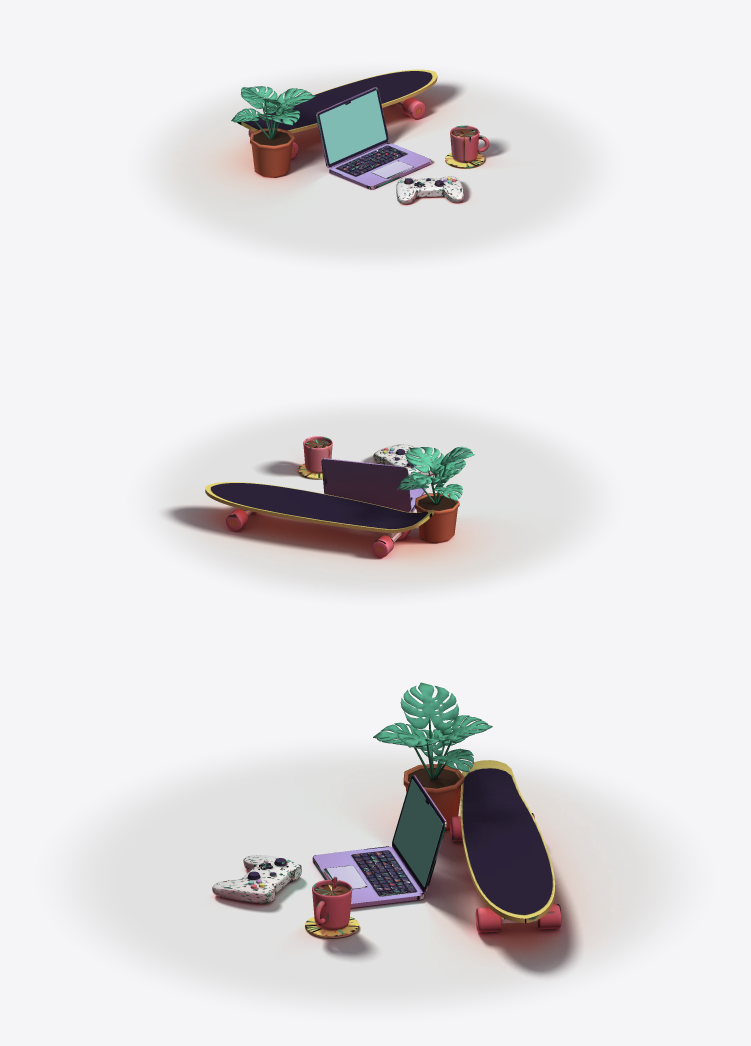
3 views of the same model, one above another, from view 1: azimuth 30°, elevation 25°; view 2: azimuth 150°, elevation 25°; view 3: azimuth 270°, elevation 25° (orthographic). The views are drawn at different scales.
Parts seen in each view (by area): view 1: floor, longboard, plant, laptop, lid_display, gamepad, coffee_cup; view 2: floor, longboard, plant, laptop, coffee_cup, gamepad; view 3: floor, longboard, plant, laptop, lid_display, gamepad, coffee_cup.
Part boxes in pixels (<box>): floor: <box>136,66,614,267</box>; longboard: <box>233,69,437,158</box>; plant: <box>231,86,315,177</box>; laptop: <box>316,87,431,189</box>; lid_display: <box>319,90,386,163</box>; gamepad: <box>396,176,463,204</box>; coffee_cup: <box>445,125,489,168</box>; floor: <box>136,400,614,601</box>; longboard: <box>205,482,433,557</box>; plant: <box>397,446,474,542</box>; laptop: <box>321,458,425,512</box>; coffee_cup: <box>298,436,332,478</box>; gamepad: <box>373,444,441,479</box>; floor: <box>49,741,701,1016</box>; longboard: <box>449,760,561,932</box>; plant: <box>373,682,492,829</box>; laptop: <box>312,774,446,907</box>; lid_display: <box>393,779,442,886</box>; gamepad: <box>212,855,301,903</box>; coffee_cup: <box>305,876,358,937</box>.
Size of the model in its own units: 2 by 0.3631 by 2.
3 materials, 2 textured.
